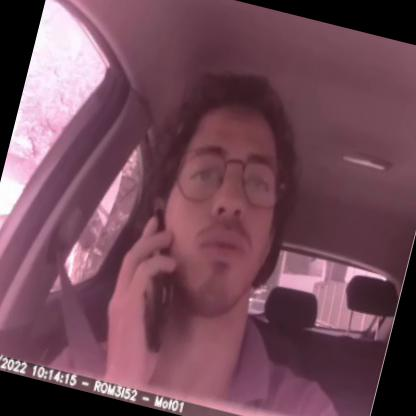phone: (107, 194, 200, 362)
